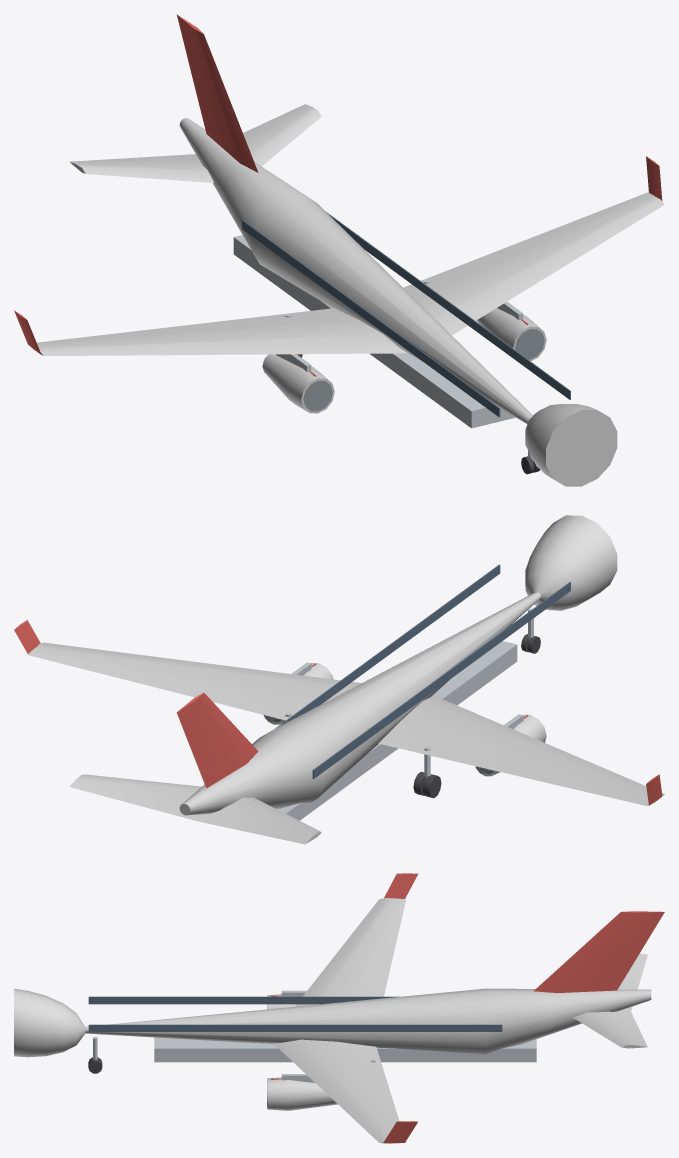
The model's file is moyen_courrier.glb.
3 renders of one model, top to bottom at view 1: azimuth 30°, elevation 25°; view 2: azimuth 150°, elevation 25°; view 3: azimuth 270°, elevation 25°, orthographic. The views are drawn at different scales.
Visible parts, largest first — view 1: fuselage, ailes, empennage, moteurs; view 2: fuselage, ailes, empennage, moteurs, train; view 3: fuselage, ailes, empennage, moteurs.
Boxes of the visible parts, bbox=[...] form: fuselage: bbox=[179, 118, 617, 486]; ailes: bbox=[14, 156, 664, 355]; empennage: bbox=[69, 14, 321, 182]; moteurs: bbox=[262, 301, 546, 413]; fuselage: bbox=[179, 515, 617, 820]; ailes: bbox=[14, 620, 664, 806]; empennage: bbox=[69, 693, 321, 844]; moteurs: bbox=[263, 662, 546, 776]; train: bbox=[285, 608, 540, 798]; fuselage: bbox=[14, 988, 651, 1062]; ailes: bbox=[273, 873, 417, 1143]; empennage: bbox=[533, 911, 664, 1048]; moteurs: bbox=[267, 990, 337, 1110].
Bounding box in the file's own units: 34.7 × 10.38 × 38.4.
